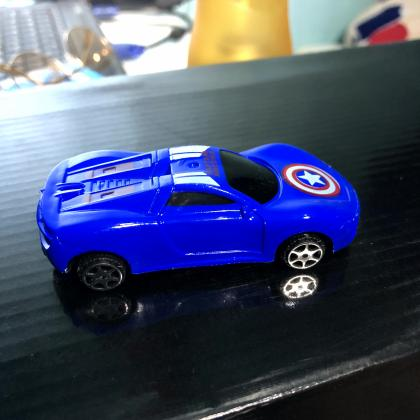Car: (36, 143, 361, 296)
